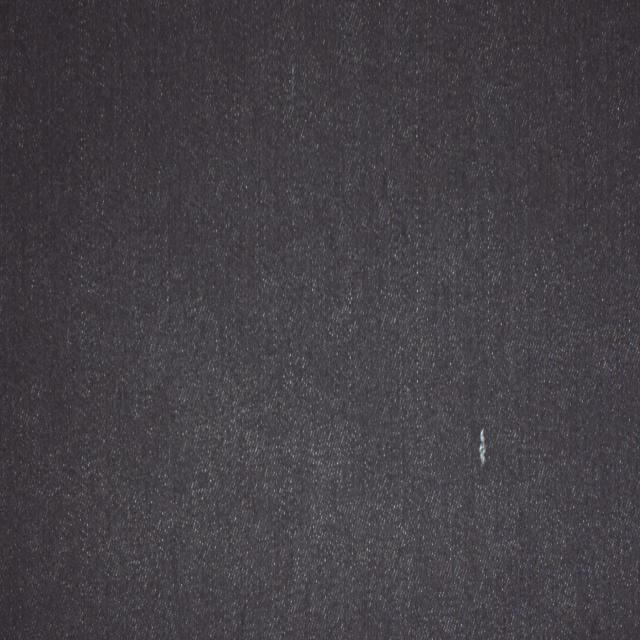Knot: (480, 425, 489, 467)
